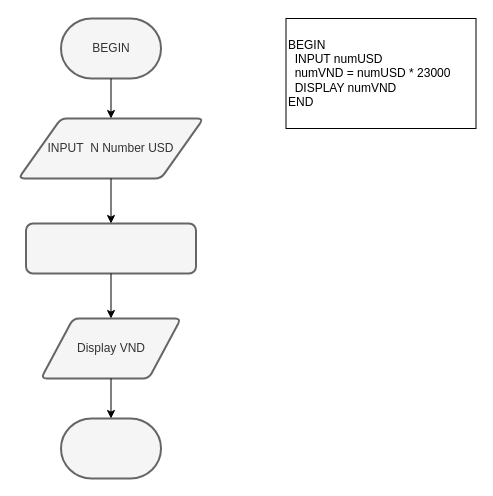
Image size: 493x496. Some labels were removed from this diagram. Each missing label, with the box of its shape:
END: (60, 417, 162, 479)
VND = N*23000: (24, 222, 196, 274)
